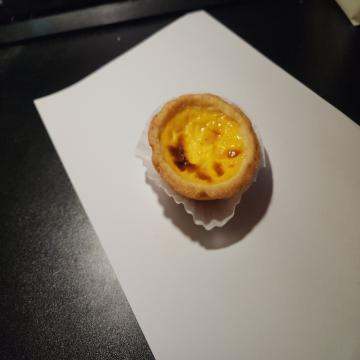EggTart: (148, 92, 261, 203)
